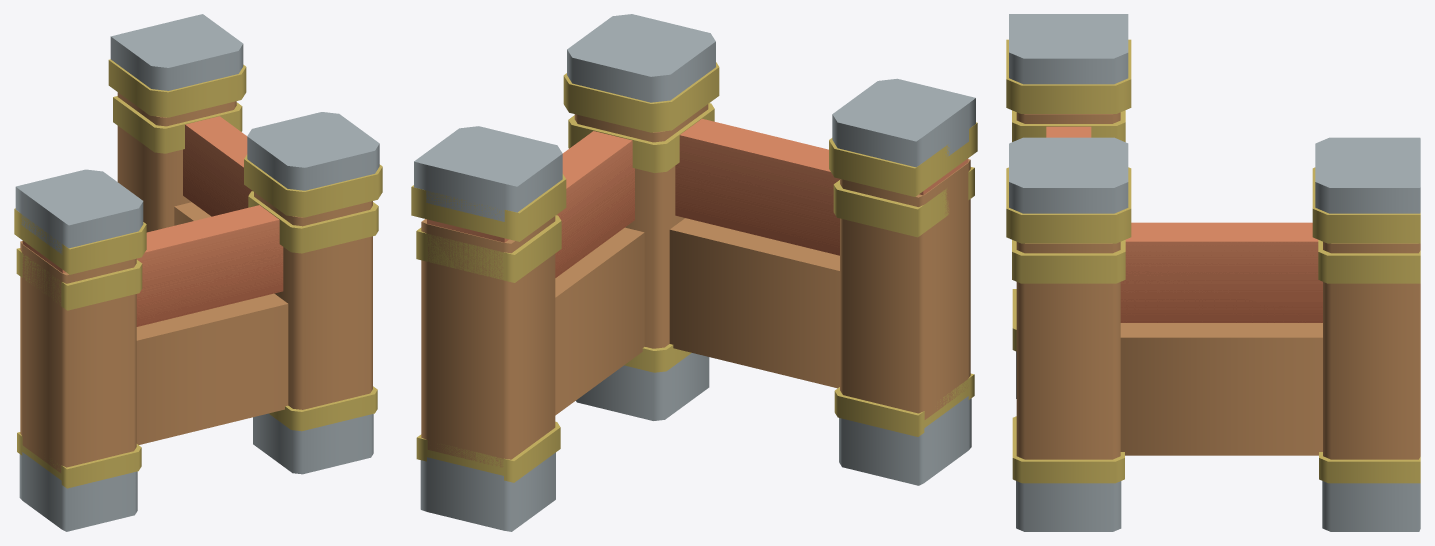
File: corner.glb
3 views of the same model, side by side, from view 1: azimuth 30°, elevation 25°; view 2: azimuth 150°, elevation 25°; view 3: azimuth 270°, elevation 25° (orthographic). The views are drawn at different scales.
Parts seen in each view (by area): view 1: upgrade_wall_level_4, upgrade_wall_level_8, upgrade_wall_level_5, upgrade_wall_level_7, upgrade_wall_level_6, wood-structure-part.008, upgrade_wall_level_2; view 2: upgrade_wall_level_8, upgrade_wall_level_5, upgrade_wall_level_6, upgrade_wall_level_4, upgrade_wall_level_7, wood-structure-part.008, upgrade_wall_level_2; view 3: upgrade_wall_level_4, upgrade_wall_level_8, upgrade_wall_level_6, upgrade_wall_level_5, upgrade_wall_level_7, wood-structure-part.008, upgrade_wall_level_2.
Boxes of the visible parts, x1,y1,x2,y2 form: upgrade_wall_level_4: (20, 92, 372, 473); upgrade_wall_level_8: (14, 37, 382, 531); upgrade_wall_level_5: (16, 93, 378, 470); upgrade_wall_level_7: (15, 14, 379, 254); upgrade_wall_level_6: (136, 202, 288, 444); wood-structure-part.008: (22, 116, 283, 326); upgrade_wall_level_2: (19, 413, 373, 531); upgrade_wall_level_8: (411, 42, 977, 531); upgrade_wall_level_5: (416, 103, 974, 466); upgrade_wall_level_6: (555, 218, 839, 415); upgrade_wall_level_4: (421, 104, 970, 467); upgrade_wall_level_7: (414, 14, 975, 221); wood-structure-part.008: (427, 118, 968, 277); upgrade_wall_level_2: (420, 353, 971, 531); upgrade_wall_level_4: (1016, 112, 1420, 459); upgrade_wall_level_8: (1006, 39, 1420, 531); upgrade_wall_level_6: (1120, 323, 1322, 455); upgrade_wall_level_5: (1012, 110, 1420, 459); upgrade_wall_level_7: (1009, 14, 1420, 213); wood-structure-part.008: (1046, 126, 1322, 322); upgrade_wall_level_2: (1016, 351, 1420, 531).
Size of the model in its own units: 0.59 by 0.545 by 0.59.
2 materials, 1 textured.
